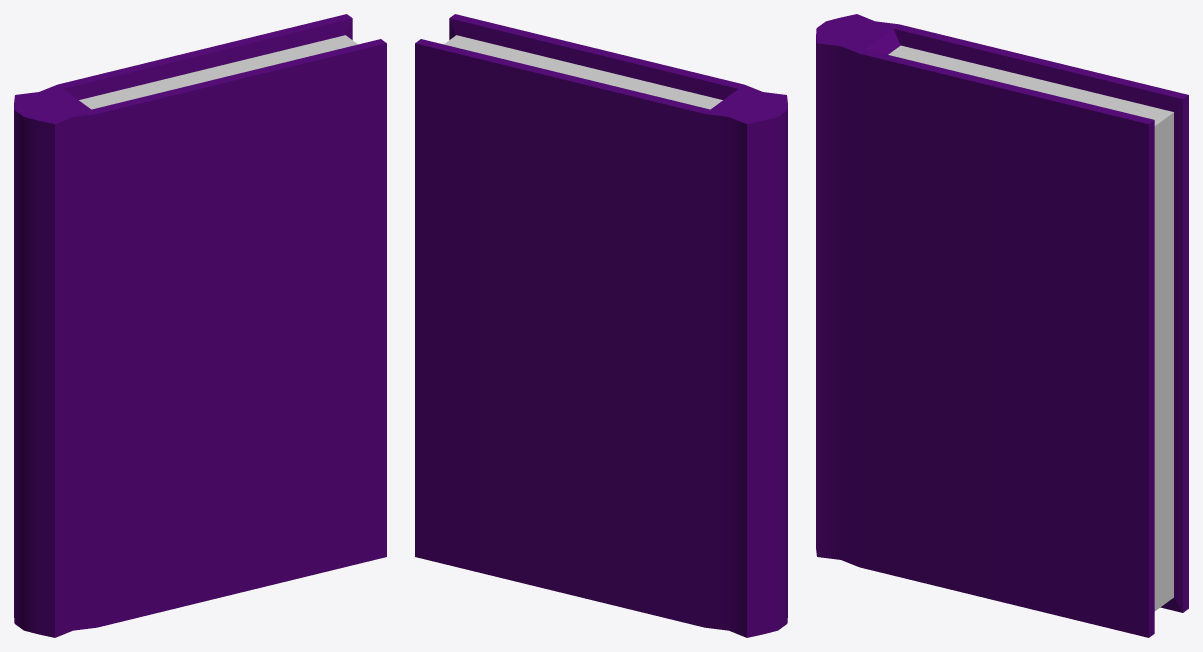
File: book_7.fbx
3 views of the same model, side by side, from view 1: azimuth 30°, elevation 25°; view 2: azimuth 150°, elevation 25°; view 3: azimuth 330°, elevation 25° (orthographic).
Parts seen in each view (by area): view 1: pCube1; view 2: pCube1; view 3: pCube1.
Boxes of the visible parts, x1,y1,x2,y2 form: pCube1: [14, 14, 386, 637]; pCube1: [415, 14, 787, 637]; pCube1: [816, 14, 1188, 637].
Bounding box in the file's own units: 11.6 × 16.38 × 2.31.
